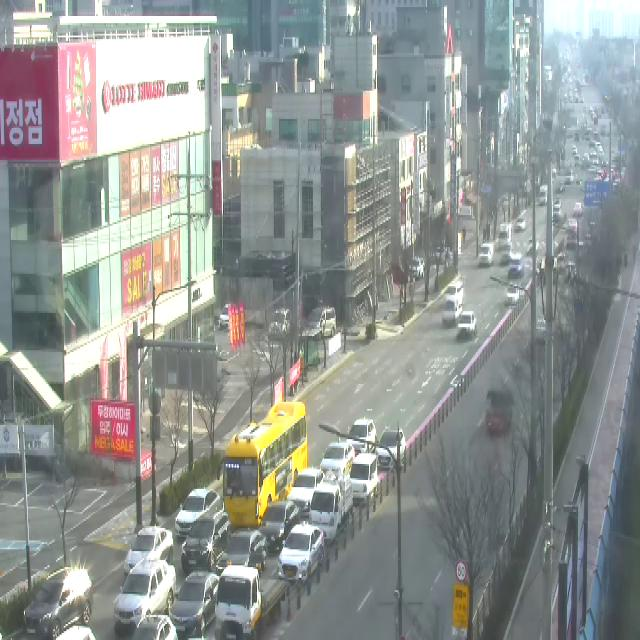Bus: (217, 402, 307, 525)
Car: (23, 568, 93, 640), (113, 560, 176, 629), (170, 571, 219, 637), (308, 471, 353, 540), (181, 511, 230, 573), (278, 525, 324, 580), (124, 527, 173, 577), (216, 530, 266, 576), (175, 489, 220, 540), (258, 501, 299, 554), (288, 470, 325, 518), (350, 454, 377, 503), (376, 428, 406, 471), (486, 391, 515, 435), (132, 615, 178, 640), (347, 419, 376, 454), (308, 306, 336, 340), (320, 443, 354, 470), (268, 307, 292, 338), (56, 626, 96, 640), (442, 299, 462, 326), (458, 312, 476, 339), (444, 281, 463, 303), (478, 242, 494, 267), (498, 222, 512, 250), (508, 255, 524, 279), (409, 256, 425, 278), (218, 304, 229, 330), (507, 285, 521, 305), (526, 236, 538, 256), (536, 319, 546, 343), (501, 248, 514, 265), (539, 185, 548, 207), (557, 253, 568, 270), (515, 217, 527, 231), (573, 203, 583, 216)
Truck: (213, 565, 285, 640)
